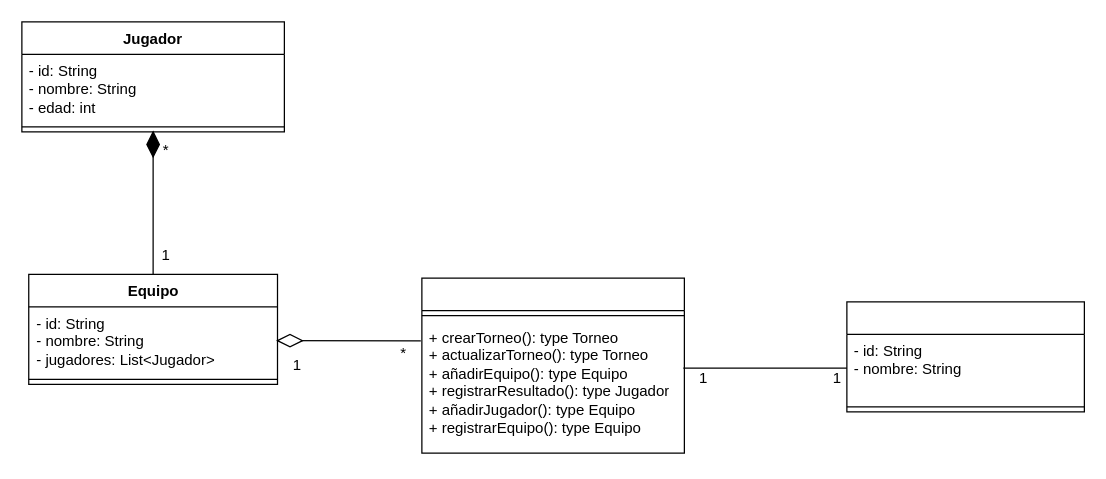
Some shapes in this 1106 by 479 pixel diagram are drawn without their labels. Here are the shapes that lost their labels. From the top down, the box of each, then its label:
(421, 277, 684, 453): Gestor
(846, 301, 1084, 412): Torneo
